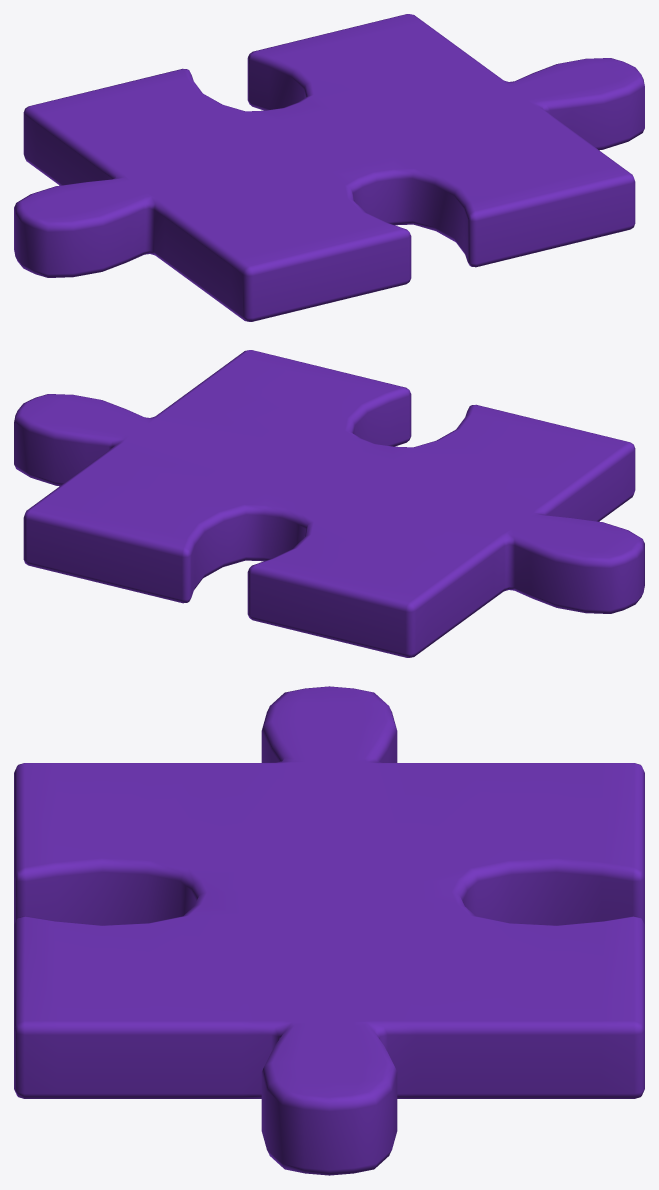
File: Store_9_Puzzle_6.glb
3 views of the same model, one above another, from view 1: azimuth 30°, elevation 25°; view 2: azimuth 150°, elevation 25°; view 3: azimuth 270°, elevation 25° (orthographic). The views are drawn at different scales.
Parts seen in each view (by area): view 1: Store_9_Puzzle_6; view 2: Store_9_Puzzle_6; view 3: Store_9_Puzzle_6.
Boxes of the visible parts, x1,y1,x2,y2 form: Store_9_Puzzle_6: [14, 14, 644, 321]; Store_9_Puzzle_6: [14, 350, 644, 657]; Store_9_Puzzle_6: [14, 686, 644, 1175].
Size of the model in its own units: 2.06 by 0.1778 by 1.31.
Materials: 1 (1 with a texture image).
